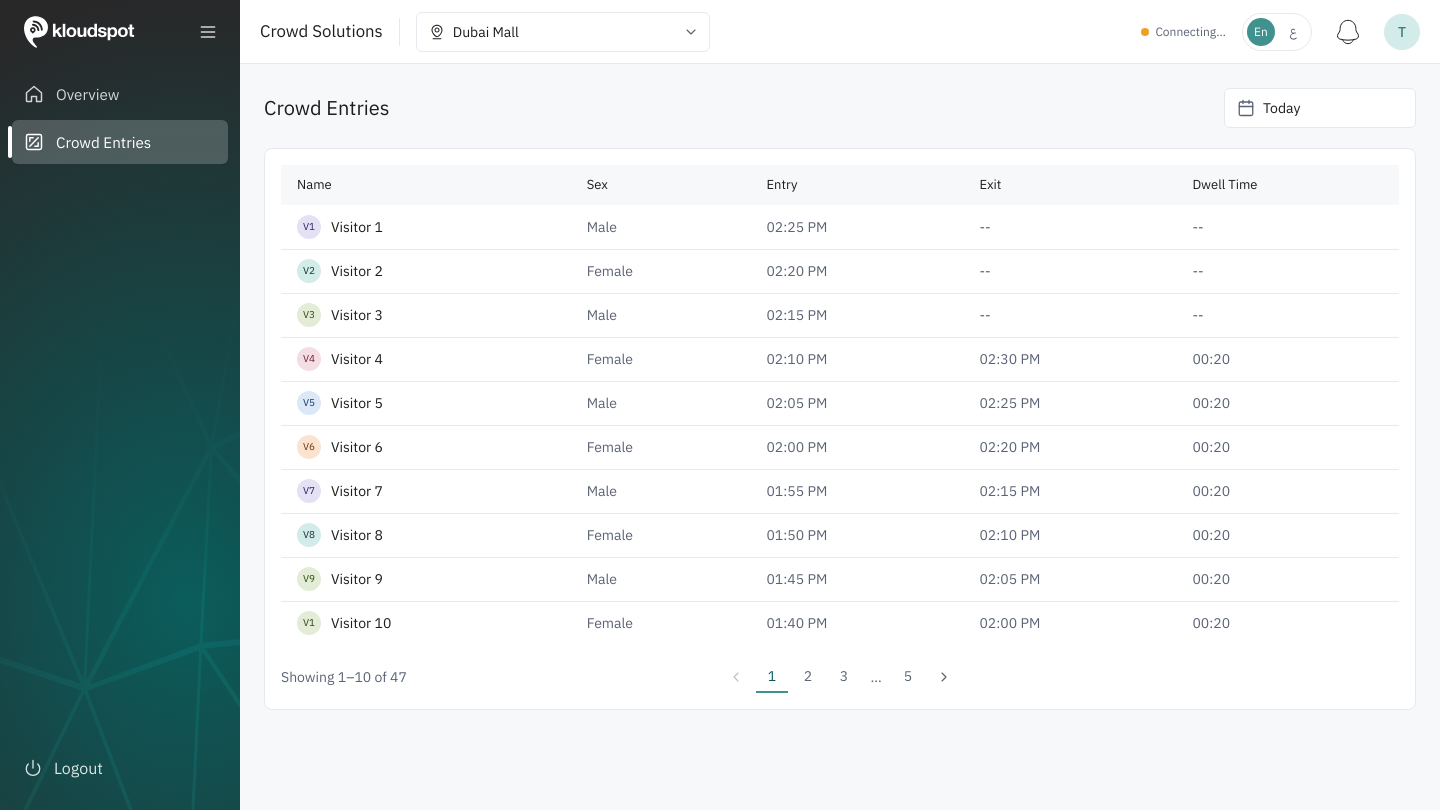
Crowd Entries › fetches the next page server-side
Expected: the text "Visitor 1" is shown, [331,217,383,237]
Click the button named "Page 2": (808, 677) [792,661,824,693]
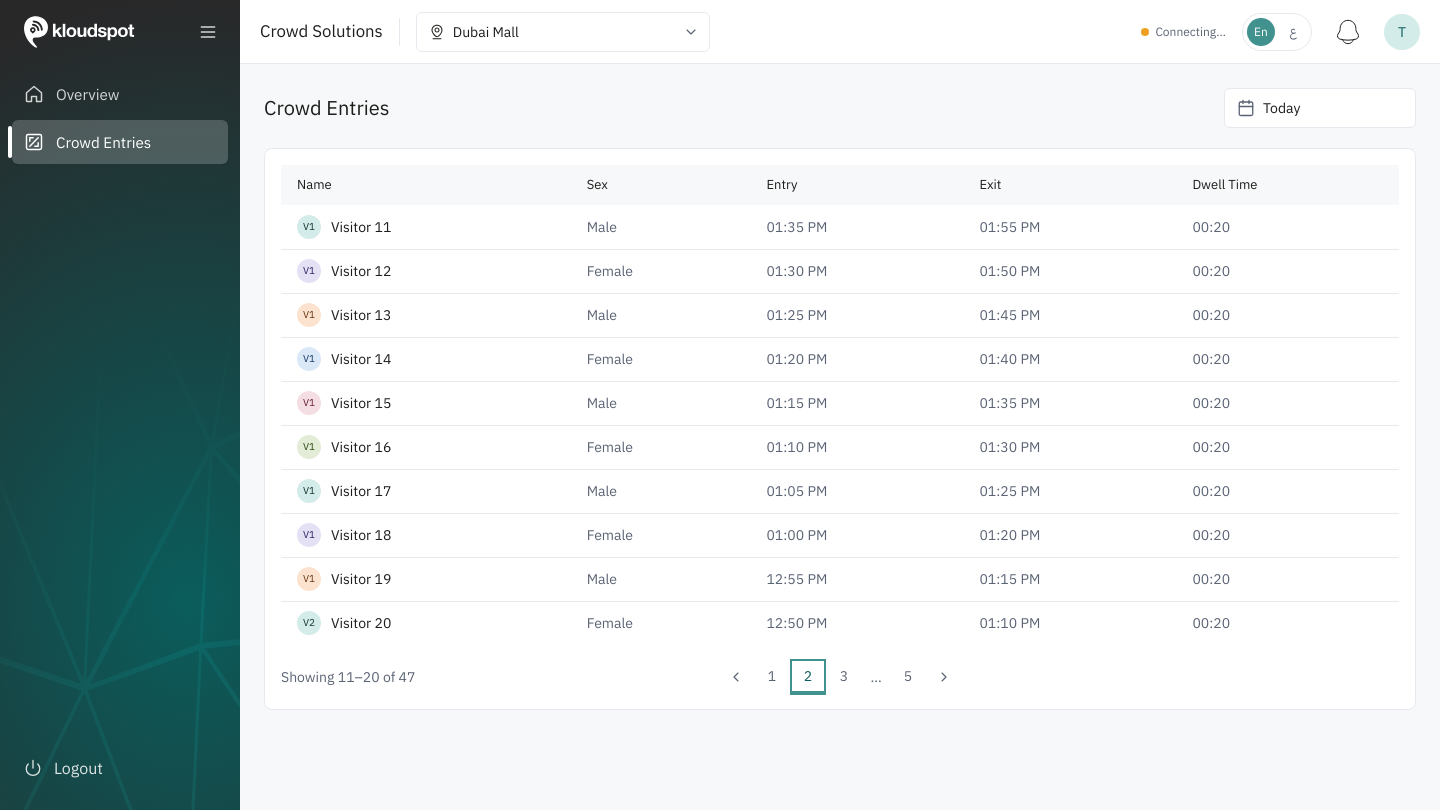
Now the text "Visitor 11" is shown, box [331,217,391,237]
Click the button named "Next page": (944, 677) [928,661,960,693]
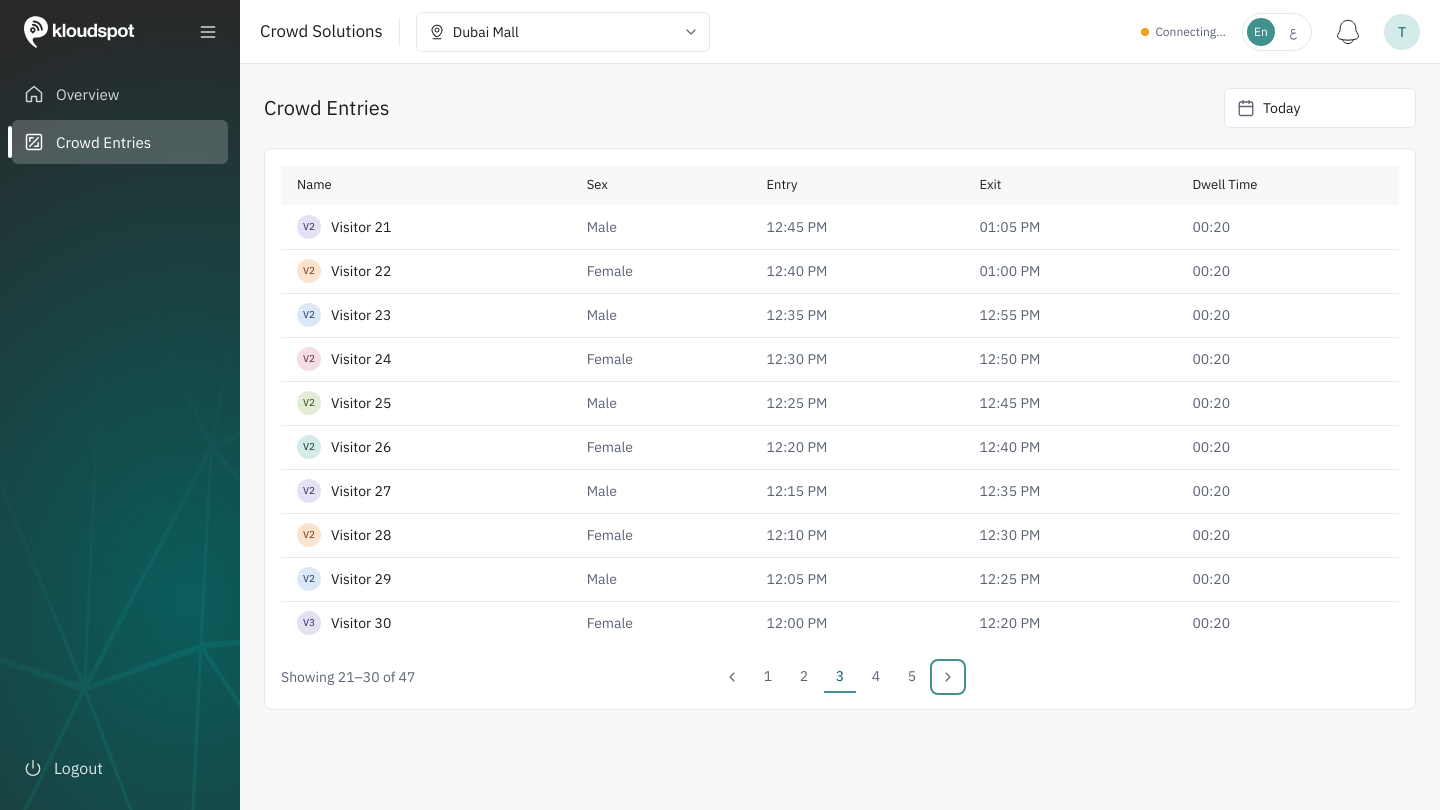
Now the text "Visitor 21" is shown, box [331,217,391,237]
